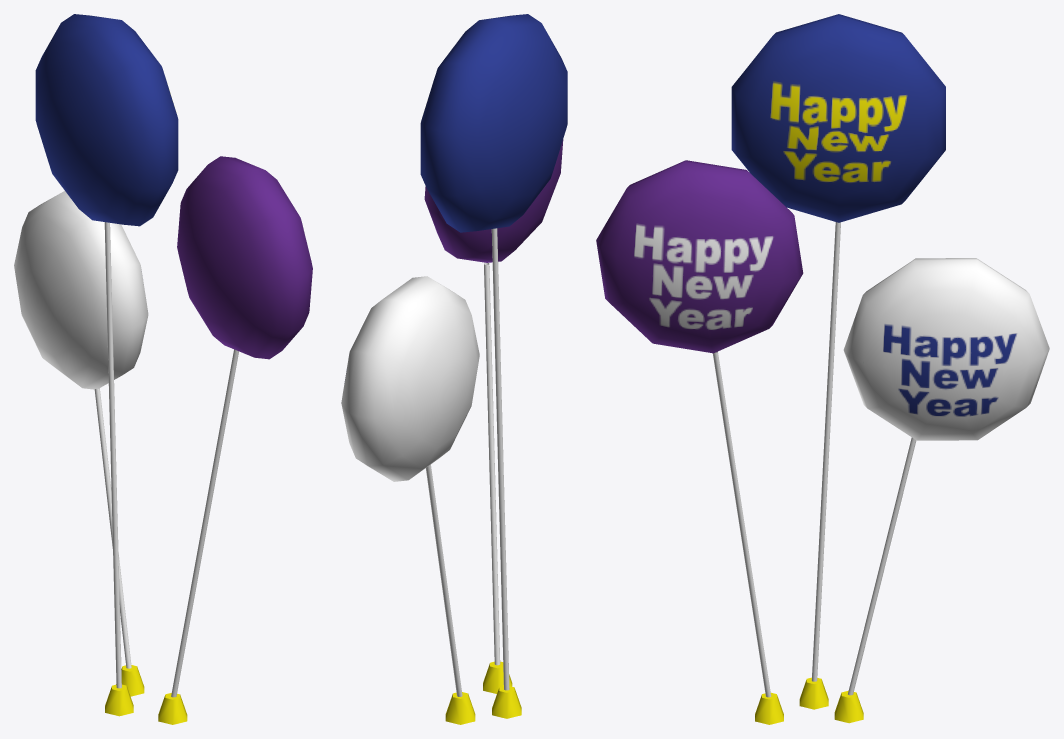
Rendered from MM_NewYearsBalloons.fbx.
The picture shows the model from 3 angles, left to right: view 1: azimuth 30°, elevation 25°; view 2: azimuth 150°, elevation 25°; view 3: azimuth 270°, elevation 25°; orthographic projection. The views are drawn at different scales.
Visible parts, largest first — view 1: MM_NewYearsBalloons; view 2: MM_NewYearsBalloons; view 3: MM_NewYearsBalloons.
Part boxes in pixels (x1,y1,x2,y2): MM_NewYearsBalloons: (14, 14, 312, 724); MM_NewYearsBalloons: (341, 14, 567, 724); MM_NewYearsBalloons: (596, 14, 1049, 724).
Size of the model in its own units: 68.56 by 276 by 166.
